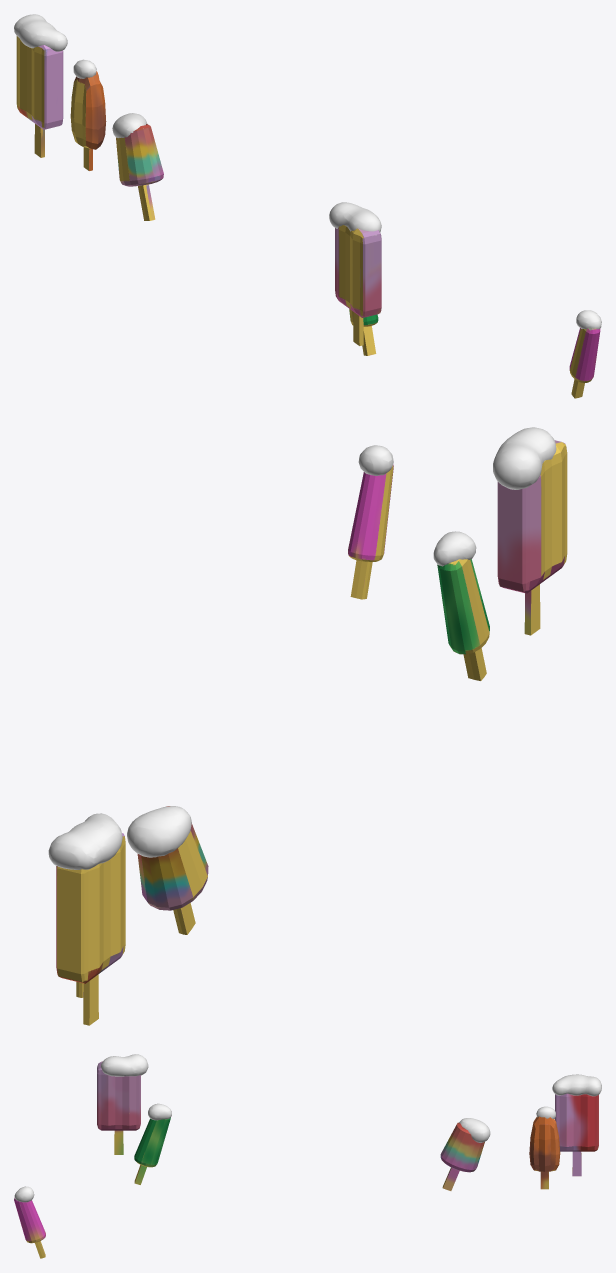
The model's file is PopsicleForest.fbx.
3 views of the same model, one above another, from view 1: azimuth 30°, elevation 25°; view 2: azimuth 150°, elevation 25°; view 3: azimuth 270°, elevation 25° (orthographic). The views are drawn at different scales.
Parts seen in each view (by area): view 1: Cube.011; view 2: Cube.011; view 3: Cube.011.
Part boxes in pixels (<box>): Cube.011: <box>14,14,601,398</box>; Cube.011: <box>48,427,567,1025</box>; Cube.011: <box>14,1054,601,1258</box>.
Bounding box in the file's own units: 423 × 369 × 1400.
